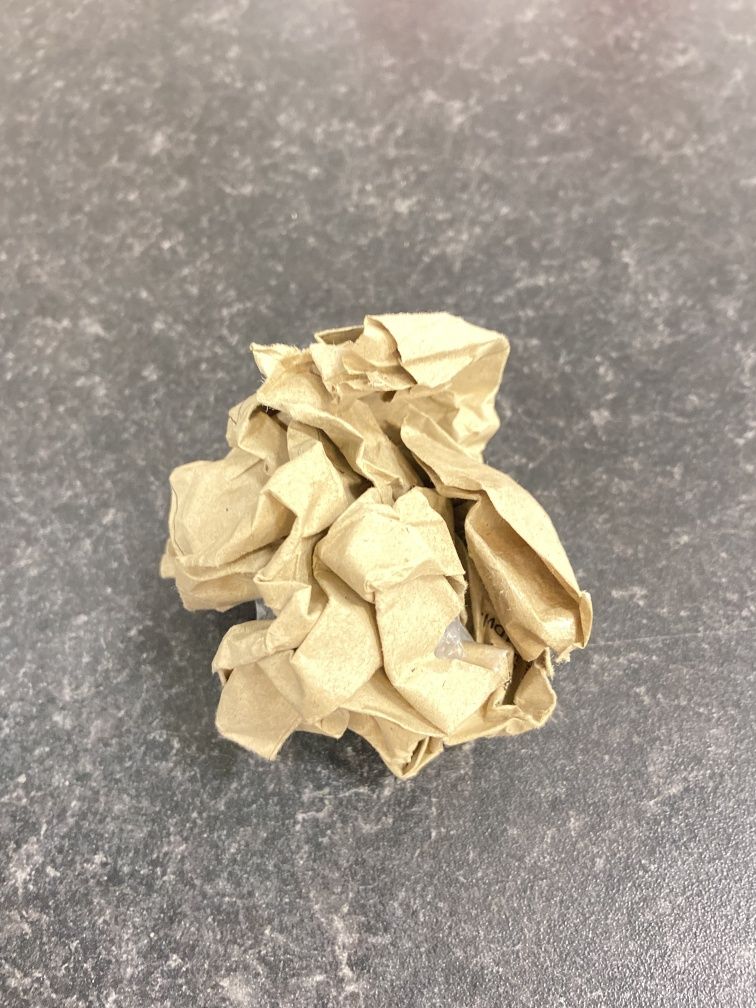paper_brown: (152, 304, 602, 797)
